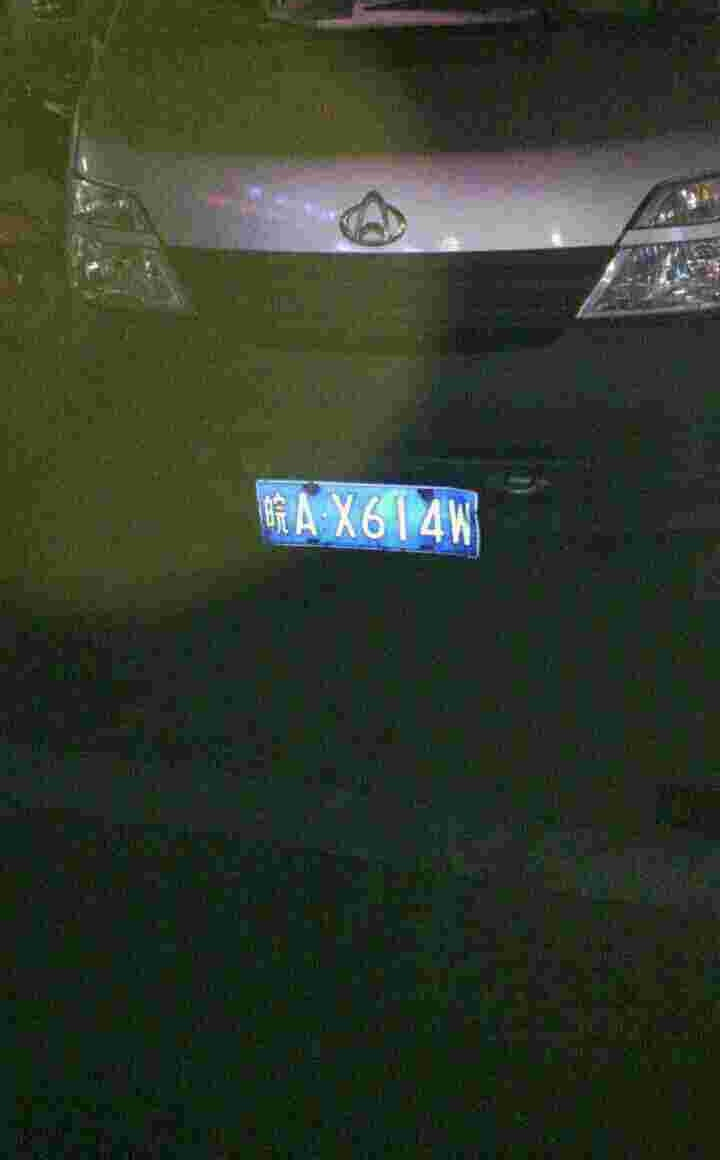license_plate: (252, 479, 488, 560)
